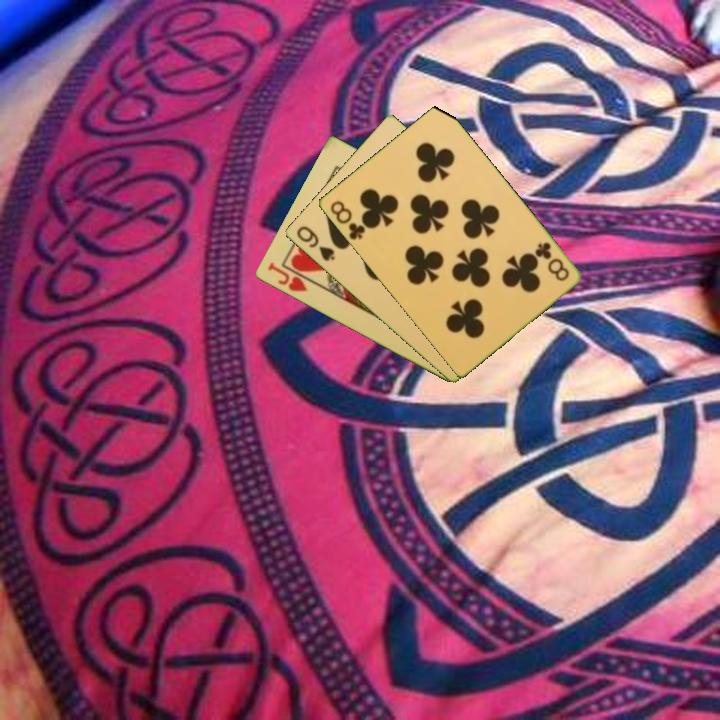8c: (326, 197, 368, 243), (531, 238, 572, 284)
9s: (292, 222, 338, 264)
Jh: (264, 259, 310, 295)
